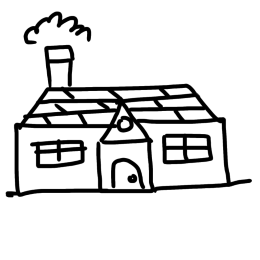closed_window: (25, 133, 88, 172), (160, 130, 214, 170)
door: (107, 154, 147, 193)
roof: (9, 81, 238, 132)
smoking_chimney: (14, 11, 102, 88)
wall: (11, 116, 231, 200)
